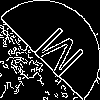M: (25, 25, 87, 87)
